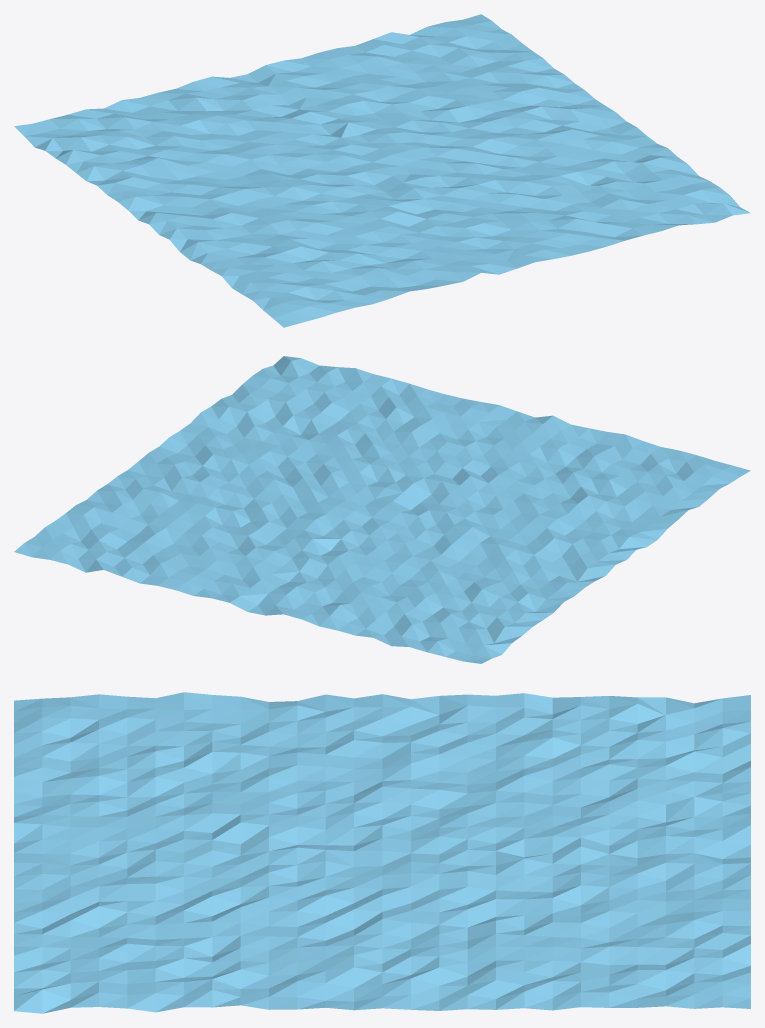
Rendered from water_game2_animated.fbx.
3 renders of one model, top to bottom at view 1: azimuth 30°, elevation 25°; view 2: azimuth 150°, elevation 25°; view 3: azimuth 270°, elevation 25°, orthographic. The views are drawn at different scales.
Visible parts, largest first — view 1: Plane; view 2: Plane; view 3: Plane.
Part boxes in pixels (x1,y1,x2,y2): Plane: [14, 14, 750, 327]; Plane: [14, 356, 750, 663]; Plane: [14, 692, 750, 1013].
Bounding box in the file's own units: 1988 × 48.08 × 1988.
